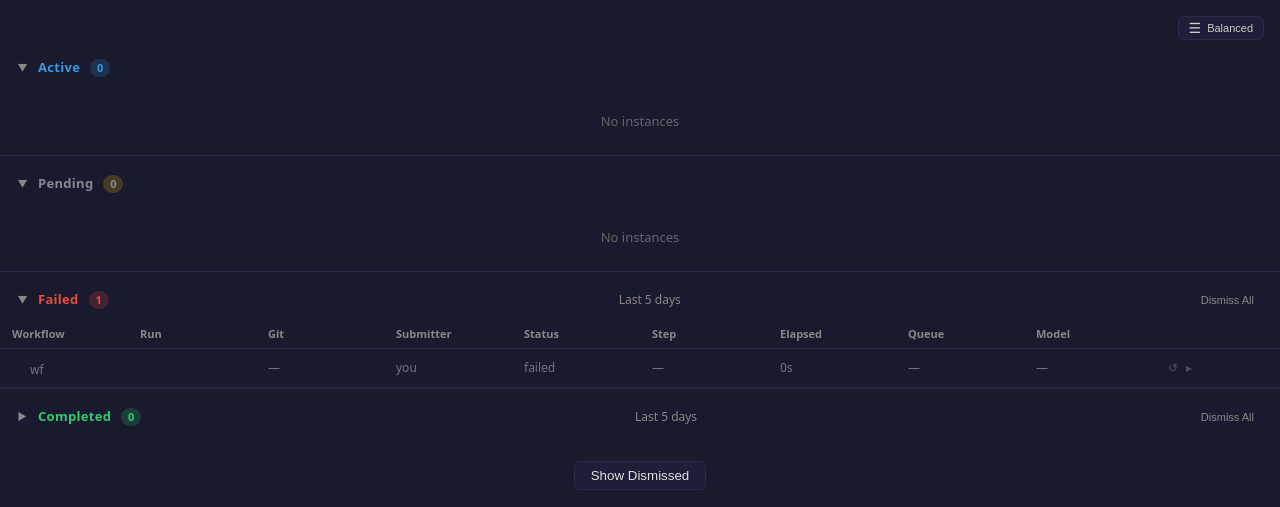
Test: QueueView dismiss handlers › handleRestore: API failure surfaces an error and does not refetch
Expected: the button "Show Dismissed" is shown, [574,460,706,490]
What coordinates should you click on to do the following:
click the button named "Restore"
I would click on:
 (1173, 368)
Its box is [1164,359,1182,377].
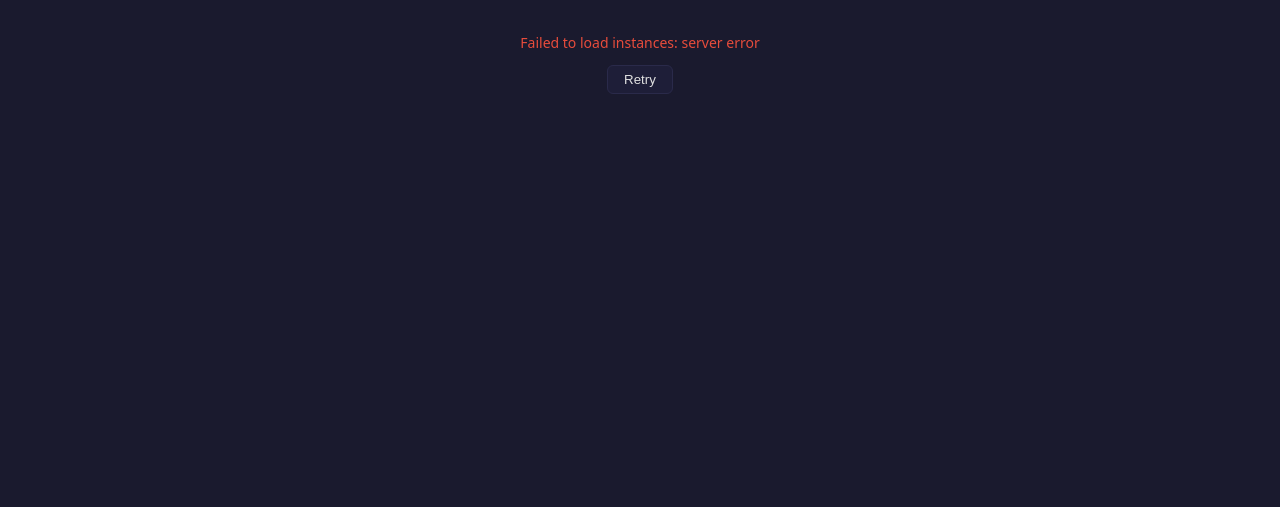
Now the text "Failed to load instances: server error" is shown, box [520,33,760,52]
